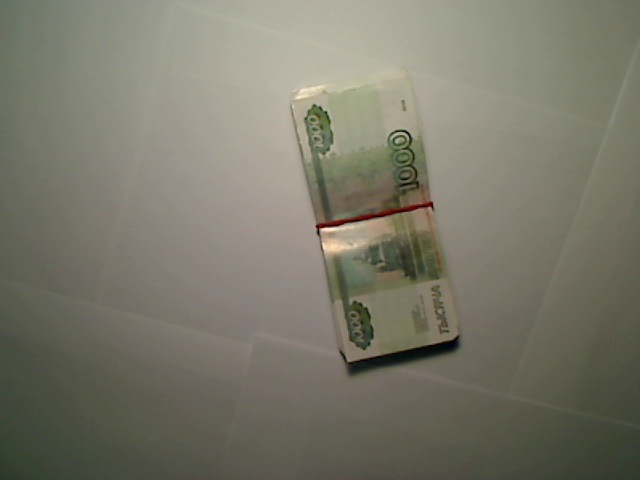banknotes: (289, 66, 462, 365)
